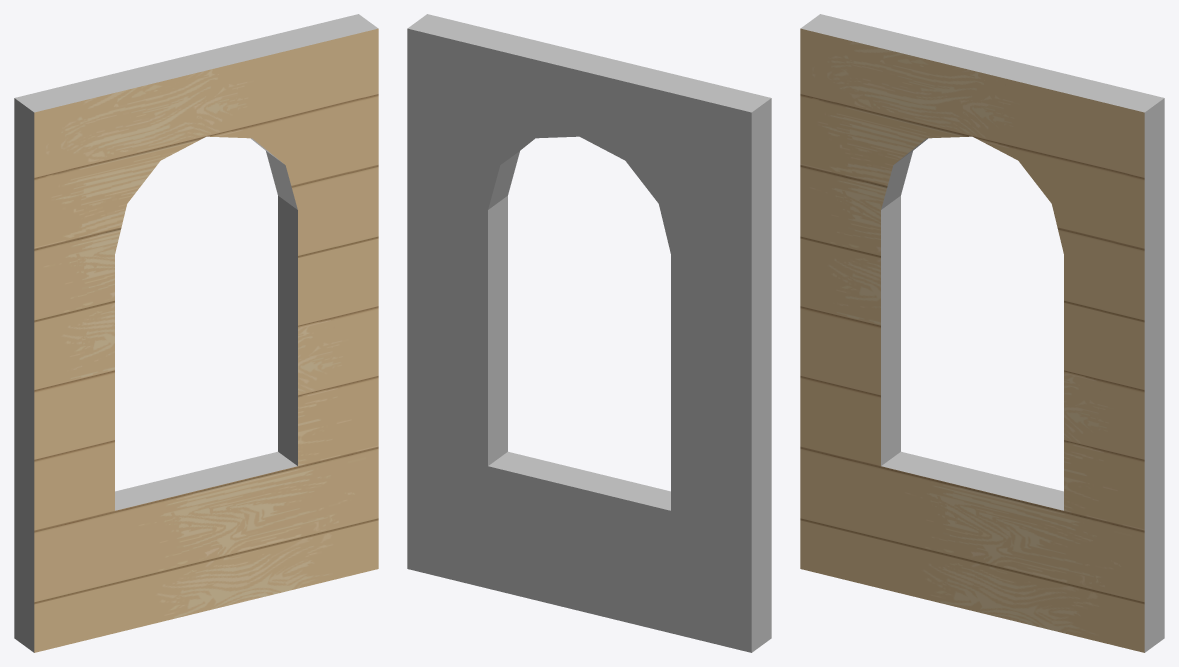
File: Wall Standard Window 4.fbx
3 renders of one model, left to right at view 1: azimuth 30°, elevation 25°; view 2: azimuth 150°, elevation 25°; view 3: azimuth 330°, elevation 25°, orthographic.
Parts seen in each view (by area): view 1: Wall Standard (Window 4); view 2: Wall Standard (Window 4); view 3: Wall Standard (Window 4).
Boxes of the visible parts, x1=… form: Wall Standard (Window 4): x1=14, y1=14, x2=378, y2=652; Wall Standard (Window 4): x1=407, y1=14, x2=771, y2=652; Wall Standard (Window 4): x1=800, y1=14, x2=1164, y2=652.
Bounding box in the file's own units: 200 × 300 × 20.
